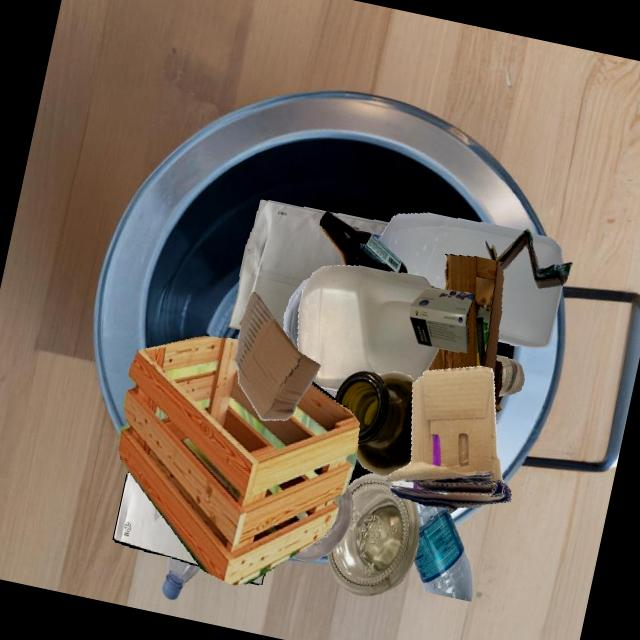cardboard: (386, 366, 510, 510), (427, 254, 503, 413), (234, 292, 320, 420), (484, 228, 572, 288), (409, 288, 474, 353)
combustible waste: (117, 336, 359, 584)
glass: (327, 473, 419, 597), (334, 370, 415, 475), (318, 210, 407, 273), (387, 465, 449, 513), (495, 354, 523, 396)
paper: (228, 199, 345, 331), (112, 470, 200, 566)
plastic: (297, 265, 440, 390), (371, 212, 524, 289), (413, 501, 472, 602), (497, 270, 562, 348), (291, 487, 353, 561), (283, 277, 310, 351), (161, 556, 200, 600), (298, 307, 319, 387)
